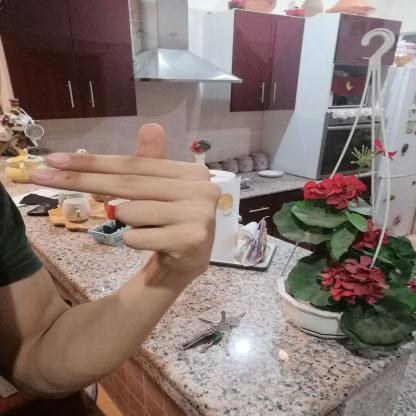GHAYN: (19, 112, 234, 283)
